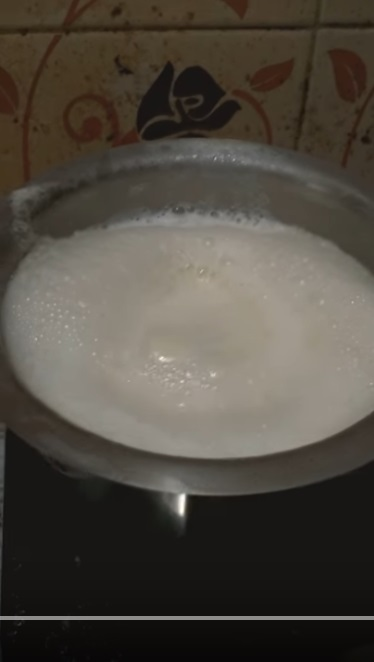Steaming: (5, 153, 374, 510)
